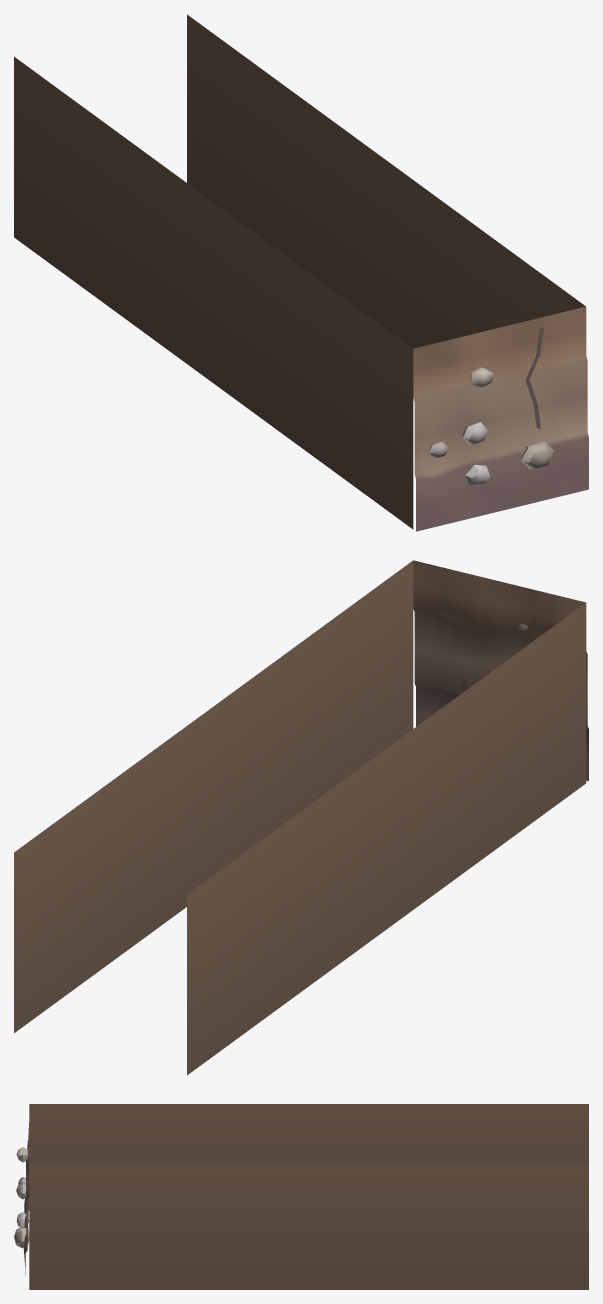
Rendered from ground_deep_3.glb.
The picture shows the model from 3 angles, top to bottom: view 1: azimuth 30°, elevation 25°; view 2: azimuth 150°, elevation 25°; view 3: azimuth 270°, elevation 25°; orthographic projection. The views are drawn at different scales.
Parts seen in each view (by area): view 1: ground_deep_3; view 2: ground_deep_3; view 3: ground_deep_3.
Boxes of the visible parts, bbox=[...] form: ground_deep_3: bbox=[14, 14, 588, 531]; ground_deep_3: bbox=[14, 560, 588, 1075]; ground_deep_3: bbox=[14, 1104, 588, 1289].
Bounding box in the file's own units: 1 × 1 × 4.11.
